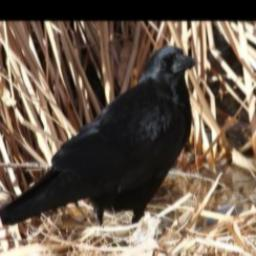Crow: (0, 44, 200, 227)
